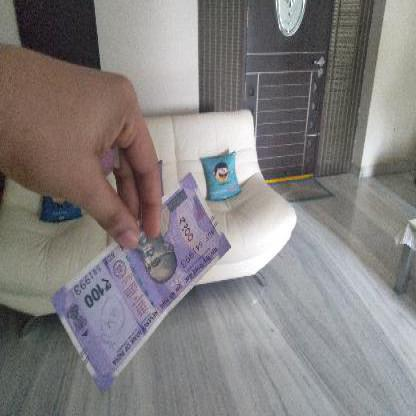New100Front: (53, 175, 233, 396)
